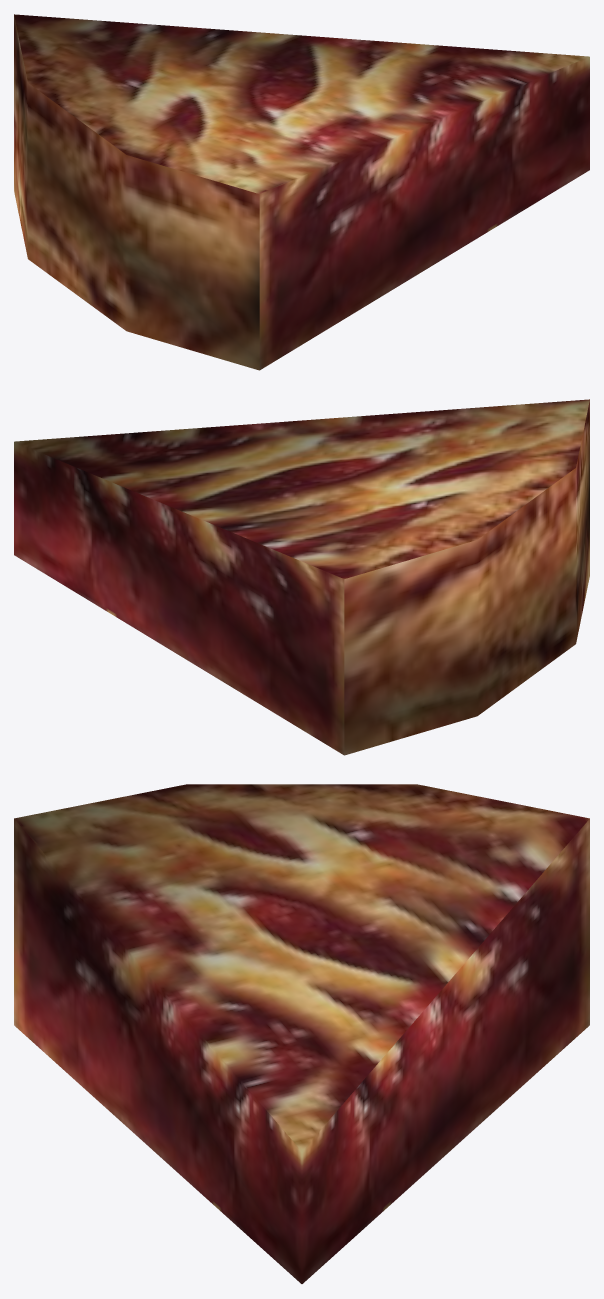
Rendered from Cake-col.glb.
3 views of the same model, one above another, from view 1: azimuth 30°, elevation 25°; view 2: azimuth 150°, elevation 25°; view 3: azimuth 270°, elevation 25° (orthographic). The views are drawn at different scales.
Visible parts, largest first — view 1: Cake-col; view 2: Cake-col; view 3: Cake-col.
Boxes of the visible parts, x1,y1,x2,y2 form: Cake-col: (14,14,589,370); Cake-col: (14,399,589,755); Cake-col: (14,784,589,1283).
Size of the model in its own units: 0.3362 by 0.1105 by 0.2789.
1 material, 1 textured.
